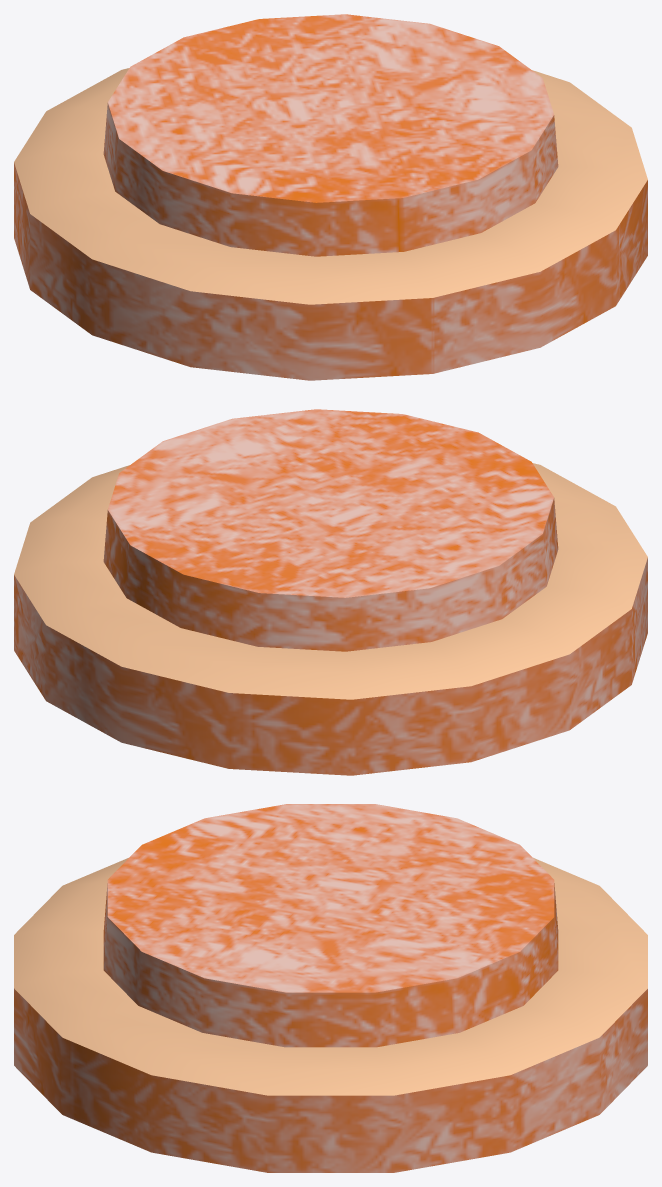
File: trucam.fbx
3 renders of one model, top to bottom at view 1: azimuth 30°, elevation 25°; view 2: azimuth 150°, elevation 25°; view 3: azimuth 270°, elevation 25°, orthographic.
Parts seen in each view (by area): view 1: stand2.002; view 2: stand2.002; view 3: stand2.002.
Boxes of the visible parts, left/top/right/bottom form: stand2.002: left=14, top=14, right=647, bottom=380; stand2.002: left=14, top=409, right=647, bottom=775; stand2.002: left=14, top=804, right=647, bottom=1172.
Size of the model in its own units: 195 by 47.66 by 195.
